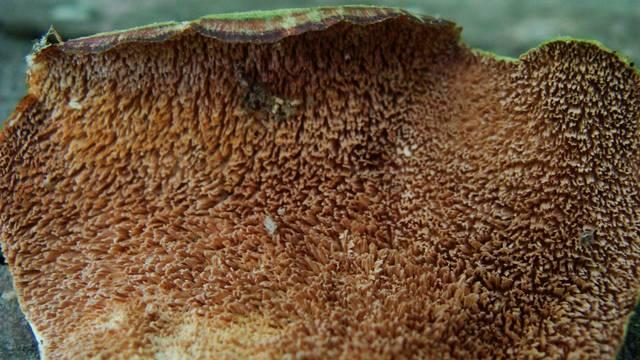Non-edible Mushroom: (0, 4, 639, 359)
